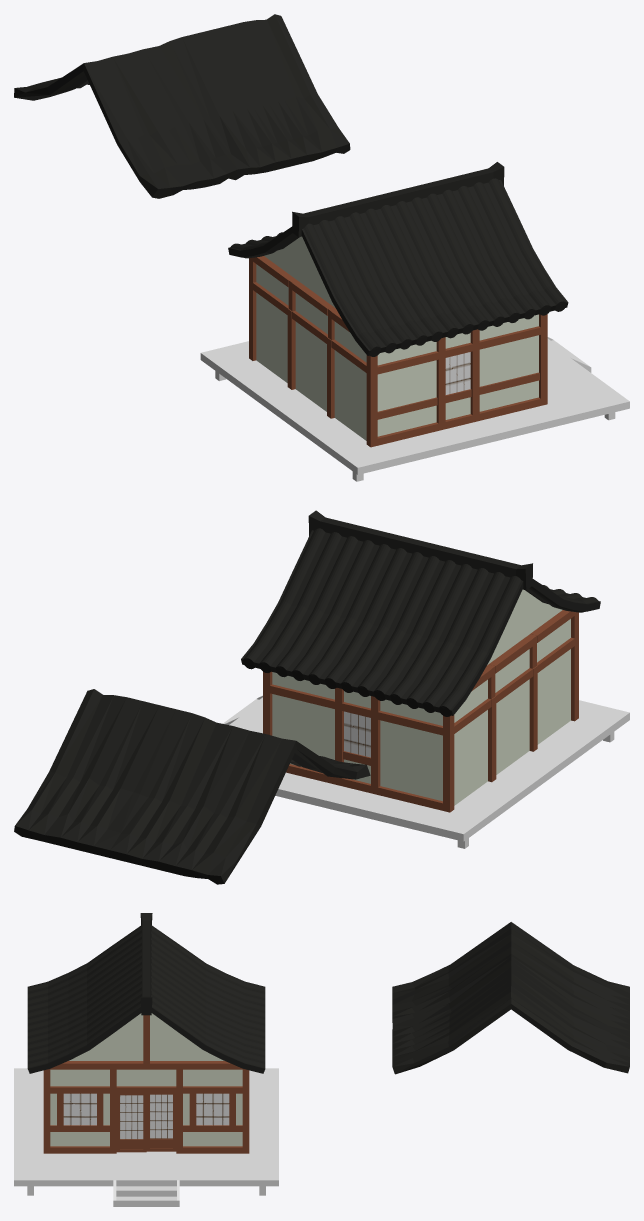
The model's file is warehouse.fbx.
3 renders of one model, top to bottom at view 1: azimuth 30°, elevation 25°; view 2: azimuth 150°, elevation 25°; view 3: azimuth 270°, elevation 25°, orthographic. The views are drawn at different scales.
Visible parts, largest first — view 1: Plane.009; view 2: Plane.009; view 3: Plane.009.
Boxes of the visible parts, x1,y1,x2,y2 form: Plane.009: (14, 14, 629, 481); Plane.009: (14, 510, 629, 884); Plane.009: (14, 913, 629, 1206).
Size of the model in its own units: 860 by 599 by 1858.
